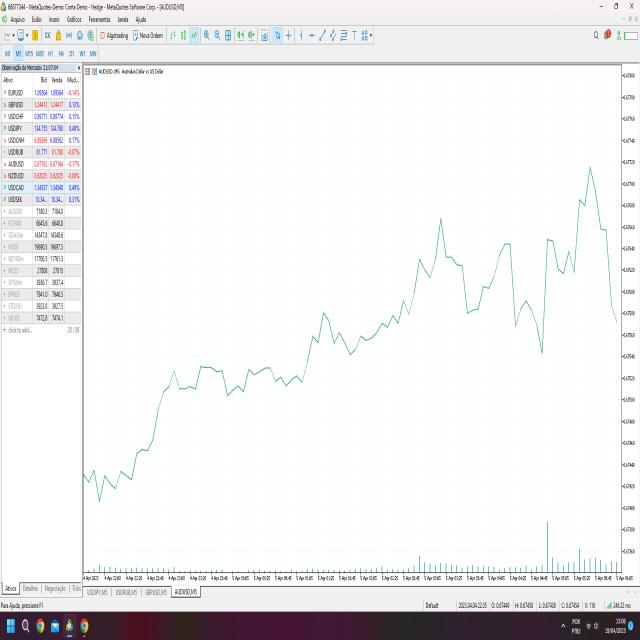fundo_duplo: (502, 212, 551, 368)
oco: (297, 294, 354, 366)
